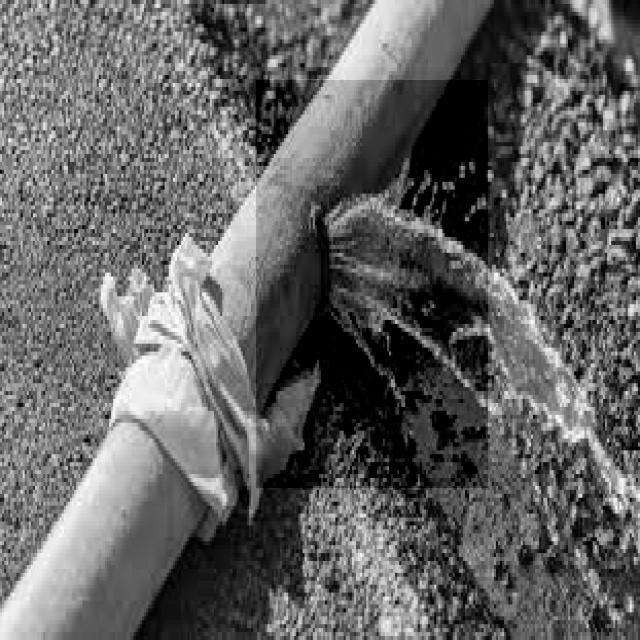corrosion: (259, 87, 526, 416)
